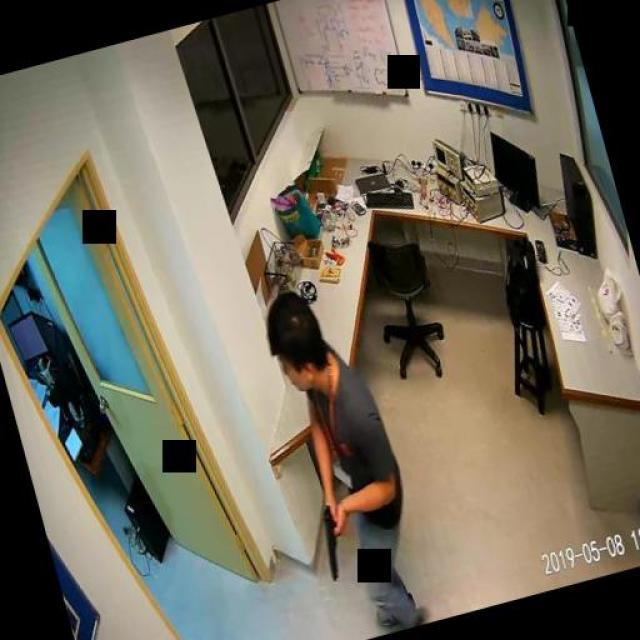gun: (312, 498, 352, 578)
